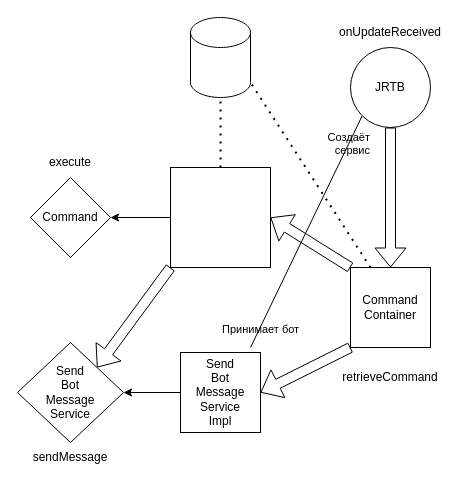
This 459x490 diagram has some shape labels left out. Each missing label, with the centre of its shape:
Command Name: point 220,57
HelpCommand StartCommand StopCommand ...: point 220,217
